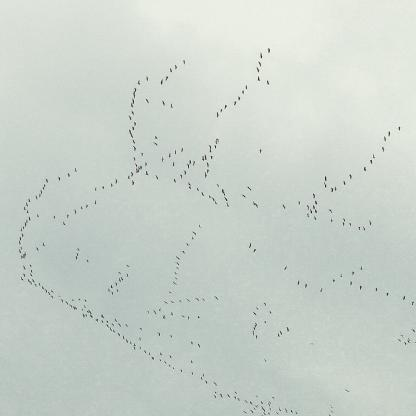Bird: (265, 46, 269, 52)
